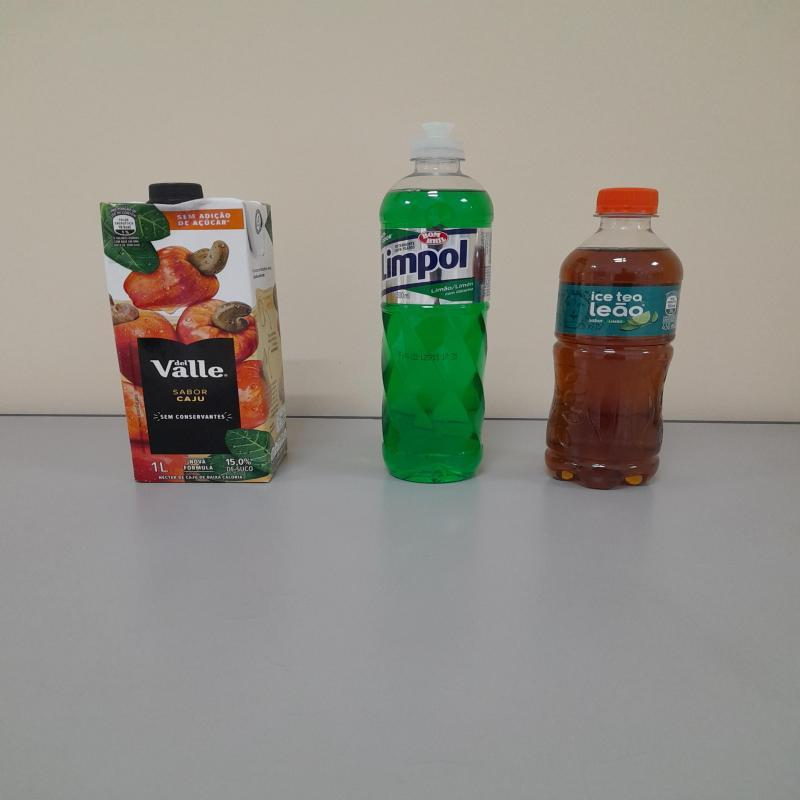Cleaner: (378, 120, 495, 488)
IceTea: (543, 188, 684, 492)
